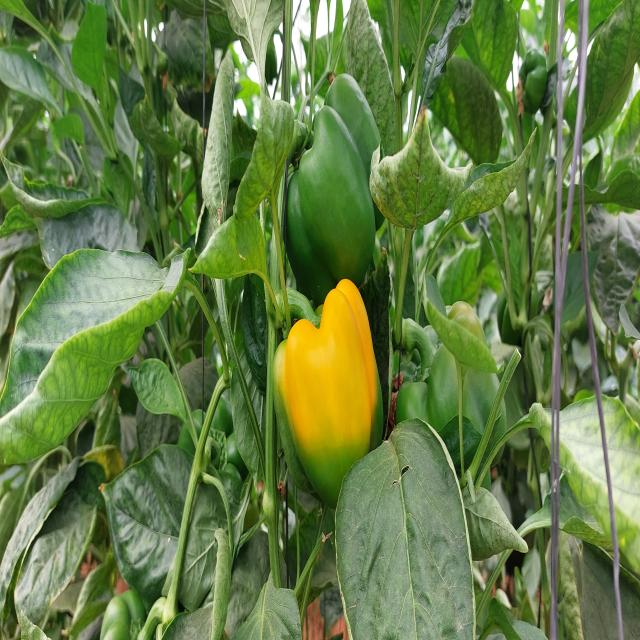Yellow-Ready-to-Harvest: (278, 276, 392, 440)
